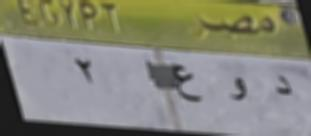2: (74, 52, 98, 90)
ain: (170, 60, 202, 109)
daal: (270, 69, 296, 103)
waw: (223, 71, 253, 107)
